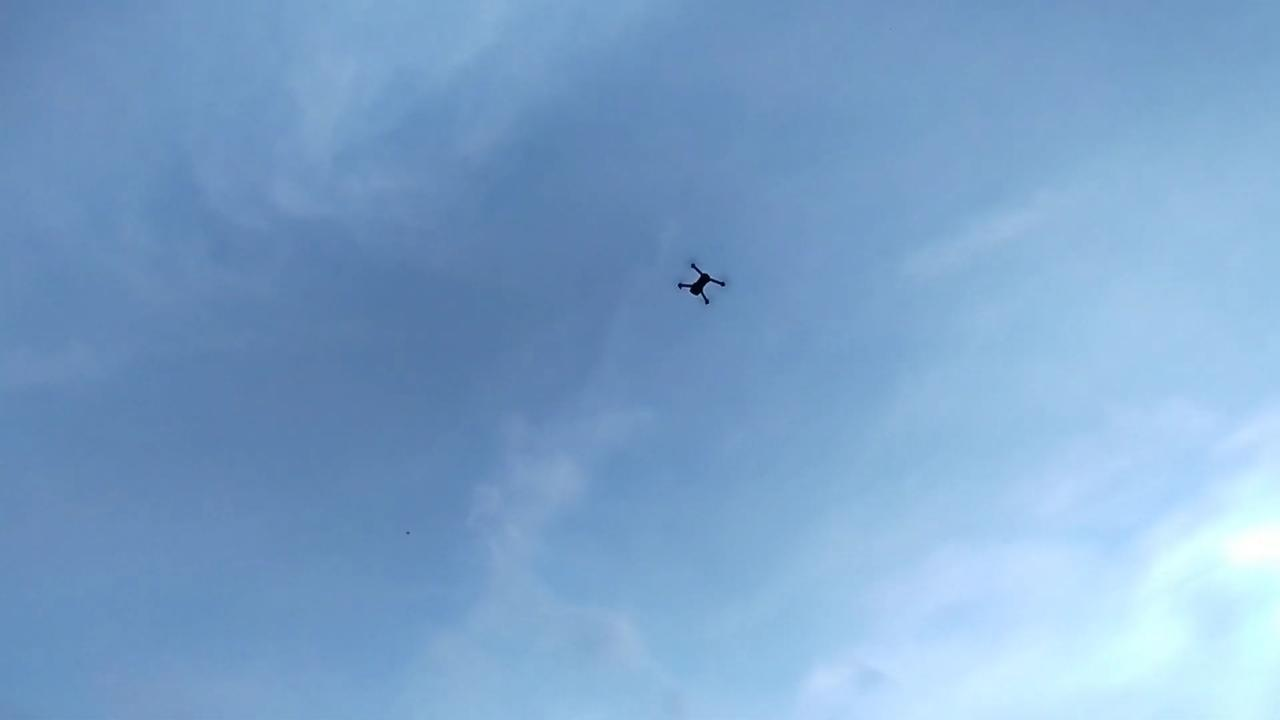Drone: (667, 254, 734, 314)
